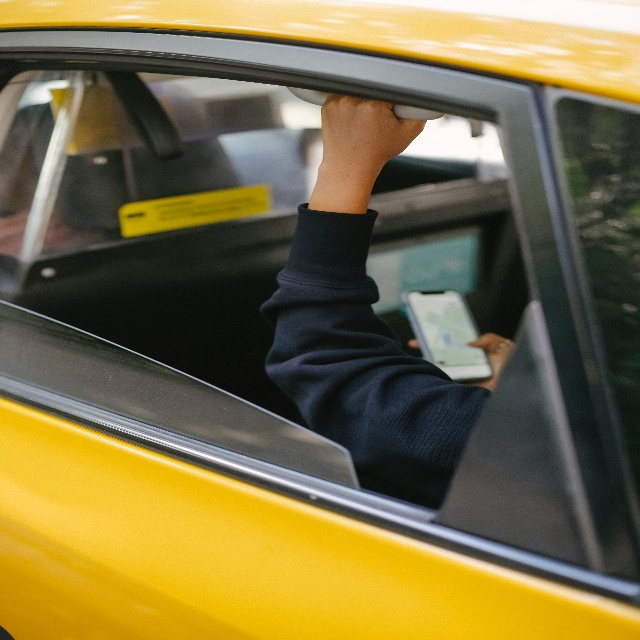Sin_guantes: (320, 92, 428, 185), (467, 332, 513, 391)
